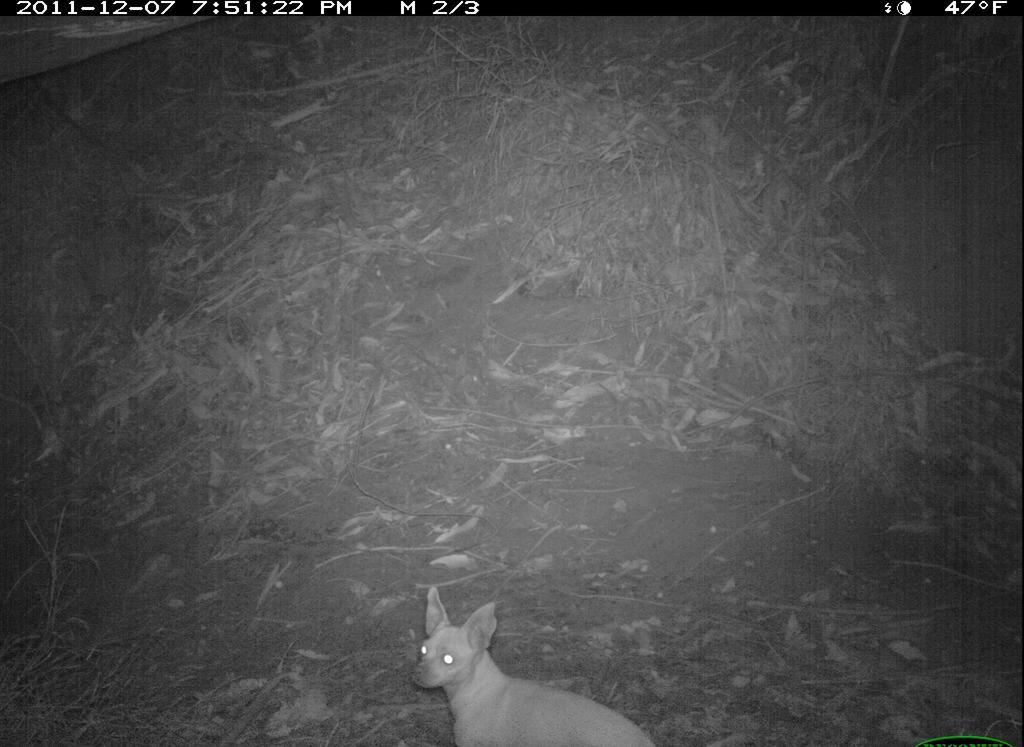dog: (392, 570, 679, 747)
